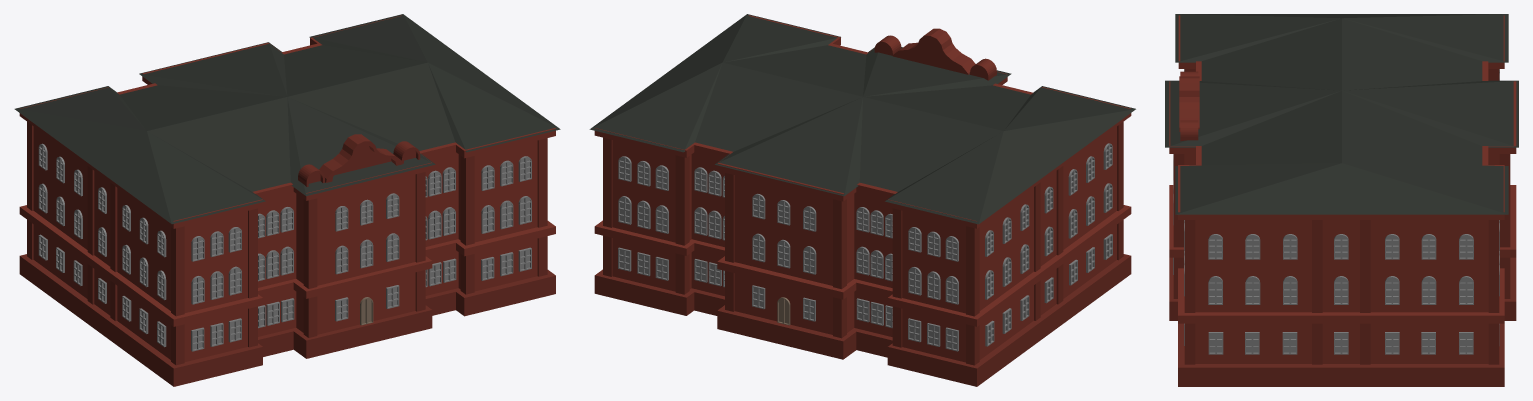
File: gymnaziummale.glb
3 views of the same model, side by side, from view 1: azimuth 30°, elevation 25°; view 2: azimuth 150°, elevation 25°; view 3: azimuth 270°, elevation 25° (orthographic). The views are drawn at different scales.
Parts seen in each view (by area): view 1: Cube.128, Cube.002, Cube.031, Cube.017, Cube.015, Cube.014, Cube.059, Cube.013; view 2: Cube.128, Cube.002, Cube.031, Cube.035, Cube.015, Cube.014, Cube.059, Cube.013; view 3: Cube.128, Cube.002, Cube.031, Cube.015, Cube.052, Cube.014, Cube.013.
Boxes of the visible parts, <box> form: Cube.128: <box>14,14,560,224</box>; Cube.002: <box>33,127,537,361</box>; Cube.031: <box>27,122,547,365</box>; Cube.017: <box>191,156,531,351</box>; Cube.015: <box>19,254,555,386</box>; Cube.014: <box>19,205,555,326</box>; Cube.059: <box>38,143,166,347</box>; Cube.013: <box>19,15,555,228</box>; Cube.128: <box>589,14,1135,224</box>; Cube.002: <box>612,126,1116,362</box>; Cube.031: <box>603,28,1123,365</box>; Cube.035: <box>618,156,958,351</box>; Cube.015: <box>594,254,1131,386</box>; Cube.014: <box>594,205,1131,326</box>; Cube.059: <box>985,143,1112,346</box>; Cube.013: <box>594,15,1131,228</box>; Cube.128: <box>1165,14,1518,214</box>; Cube.002: <box>1184,69,1499,363</box>; Cube.031: <box>1173,69,1510,364</box>; Cube.015: <box>1169,257,1516,386</box>; Cube.052: <box>1208,234,1473,354</box>; Cube.014: <box>1169,185,1516,323</box>; Cube.013: <box>1169,15,1516,219</box>.
Bounding box in the file's own units: 4.43 × 2.16 × 3.3.
